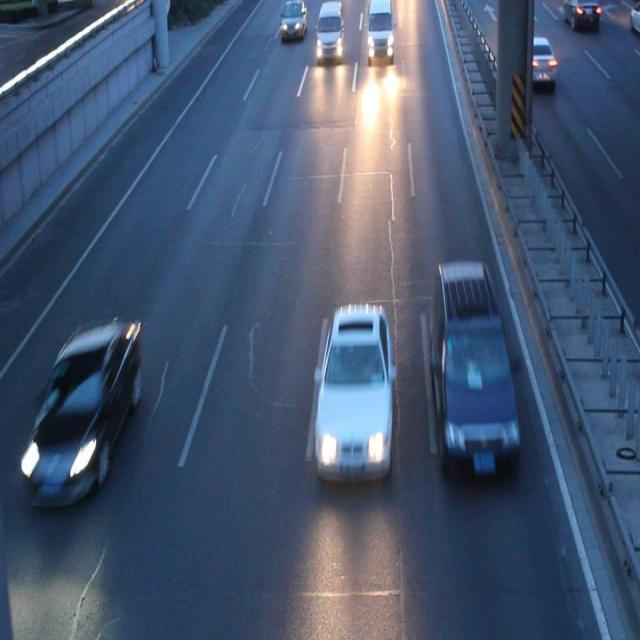car: (24, 322, 138, 501), (317, 306, 391, 474), (515, 39, 555, 83), (561, 1, 598, 31), (281, 1, 306, 37)
truck: (429, 263, 520, 471), (316, 1, 342, 57), (367, 1, 393, 56)
